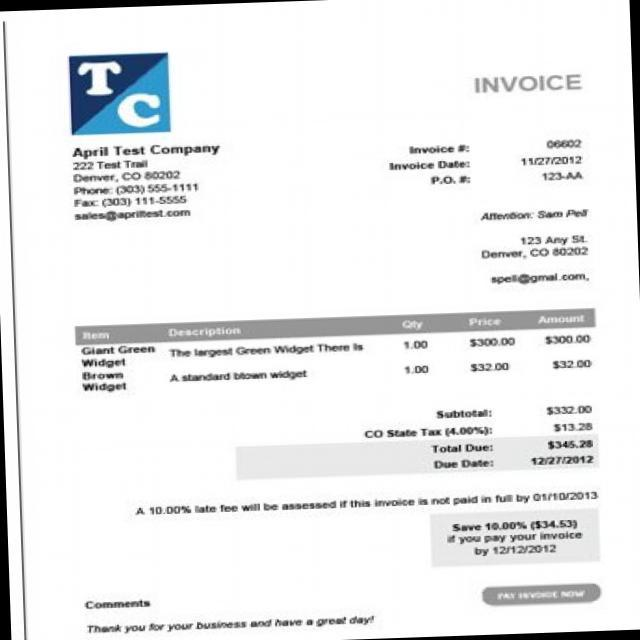due_date: (528, 454, 596, 470)
invoice_date: (516, 153, 589, 170)
invoice_number: (545, 135, 584, 151)
invoice_subtotal: (539, 402, 597, 419)
invoice_total: (544, 438, 599, 452)
item_description: (164, 342, 367, 387)
item_quantity: (392, 342, 431, 386)
item_total_price: (534, 331, 602, 378)
item_unit_price: (465, 334, 521, 381)
supplier_address: (72, 158, 186, 186)
supplier_name: (70, 141, 228, 161)
tax_amount: (551, 419, 596, 435)
